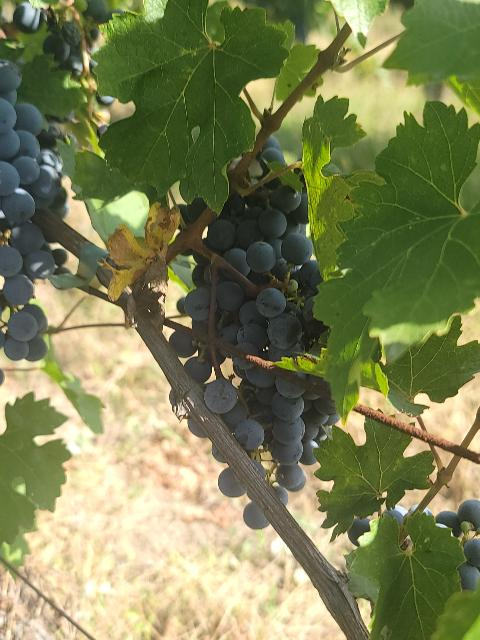grapes: (170, 330, 339, 502), (0, 60, 68, 360), (205, 180, 321, 290), (214, 264, 325, 361), (181, 284, 211, 334)
